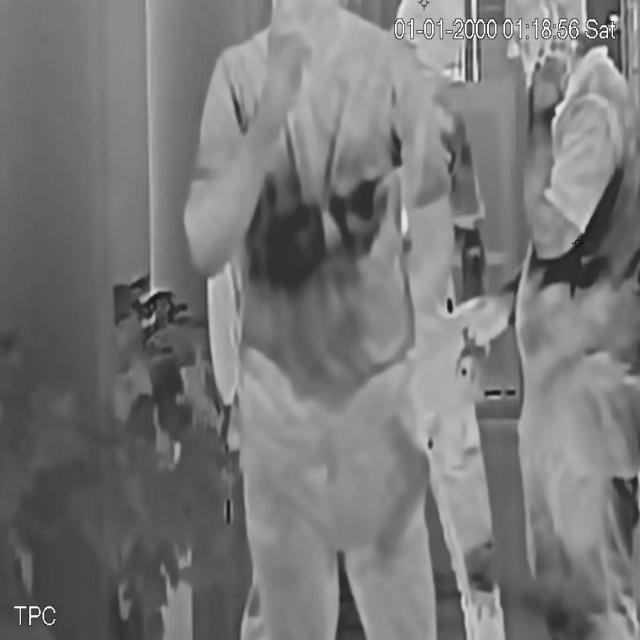Weapon: (364, 408, 441, 572)
